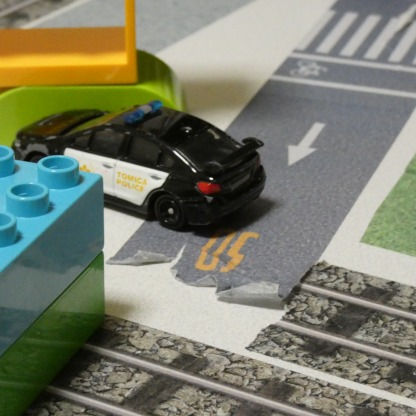car: (13, 100, 269, 235)
